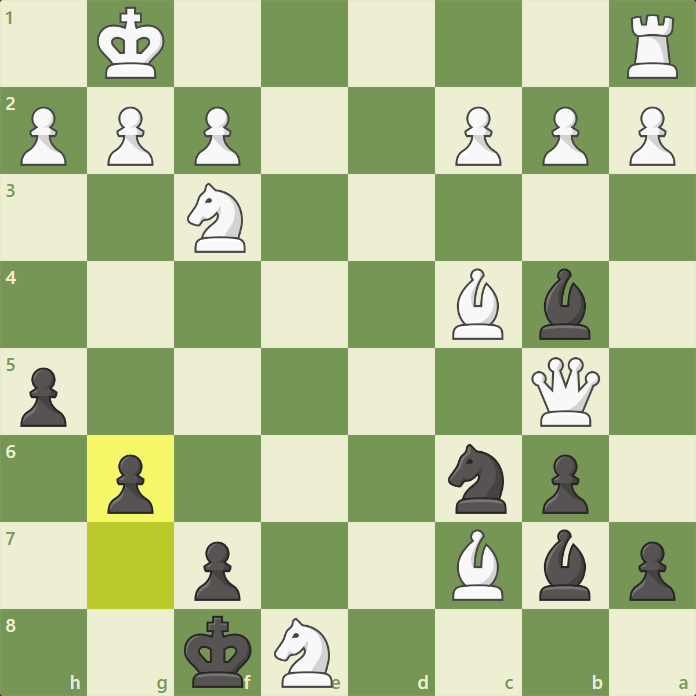B: (450, 266, 508, 343), (449, 527, 505, 605)
K: (94, 5, 167, 81)
N: (272, 615, 336, 691), (184, 181, 248, 255)
P: (17, 105, 69, 169), (102, 105, 154, 169), (189, 105, 241, 169), (451, 104, 503, 168), (538, 103, 590, 167), (625, 104, 677, 168)
Q: (528, 355, 604, 429)
R: (623, 11, 683, 81)
b: (535, 528, 594, 604), (536, 265, 592, 343)
k: (182, 613, 255, 689)
n: (444, 442, 508, 518)
p: (18, 366, 69, 430), (105, 453, 156, 517), (191, 540, 242, 604), (540, 454, 591, 518), (626, 540, 677, 604)
